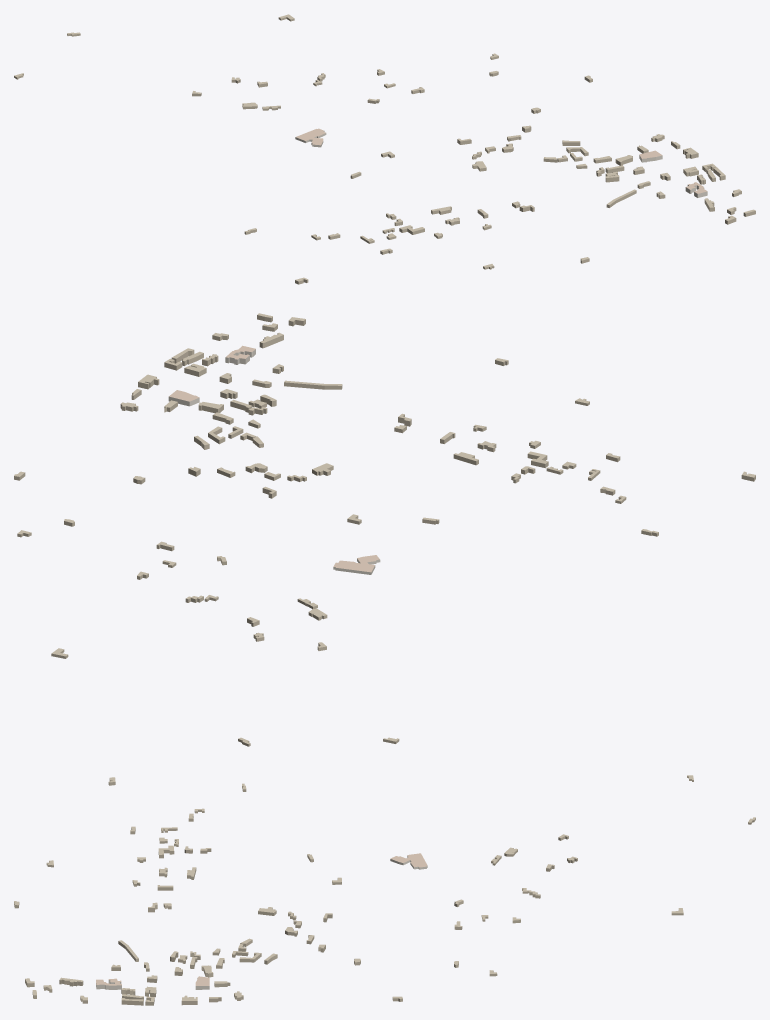
3 views of the same model, one above another, from view 1: azimuth 30°, elevation 25°; view 2: azimuth 150°, elevation 25°; view 3: azimuth 270°, elevation 25° (orthographic). The views are drawn at different scales.
Size of the model in its own units: 1449 by 28.53 by 2046.
